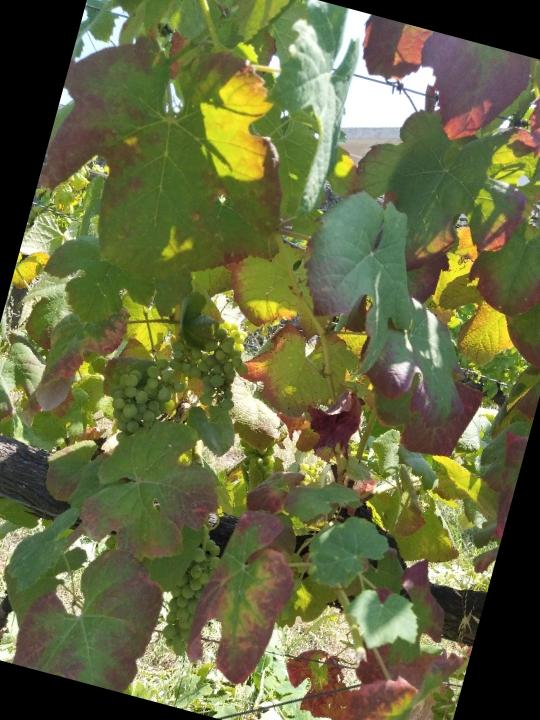grape: (157, 307, 261, 416), (153, 525, 230, 662), (100, 346, 192, 458)
